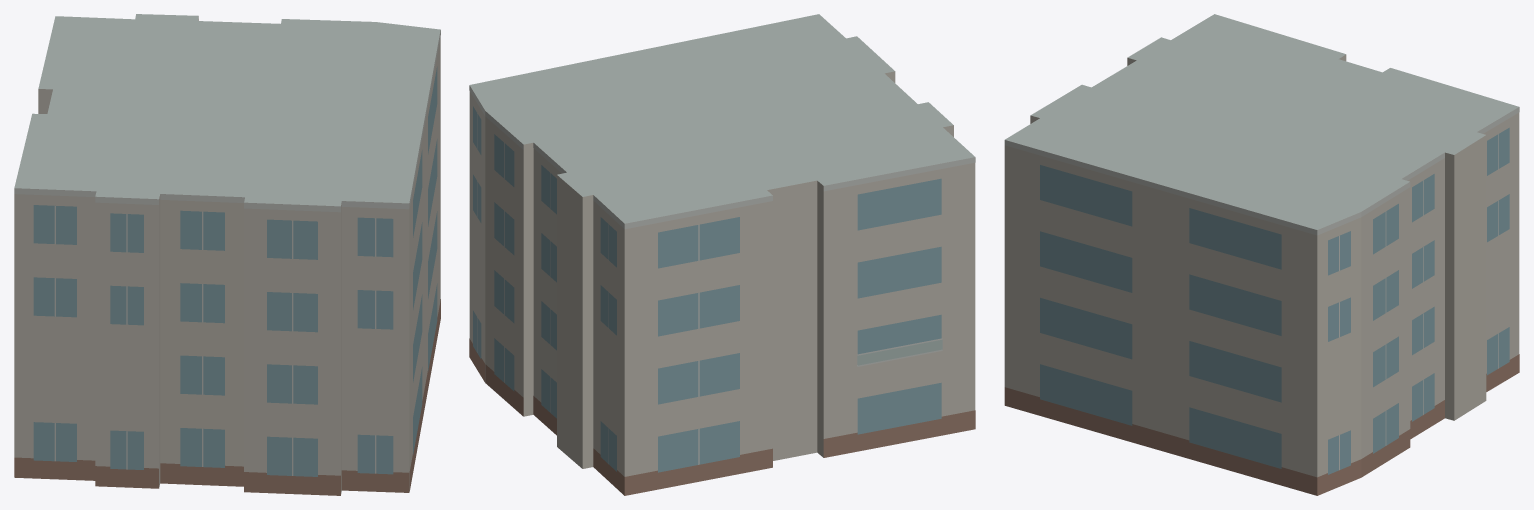
The model's file is survey-upis-32678040.glb.
3 views of the same model, side by side, from view 1: azimuth 30°, elevation 25°; view 2: azimuth 150°, elevation 25°; view 3: azimuth 270°, elevation 25° (orthographic). The views are drawn at different scales.
Visible parts, largest first — view 1: survey-upis-32678040.tmp; view 2: survey-upis-32678040.tmp; view 3: survey-upis-32678040.tmp.
Part boxes in pixels (box(x1,y1,x2,y2)): survey-upis-32678040.tmp: box(14, 14, 440, 495); survey-upis-32678040.tmp: box(469, 14, 975, 495); survey-upis-32678040.tmp: box(1004, 14, 1519, 495).
Size of the model in its own units: 20.93 by 12 by 21.07.
